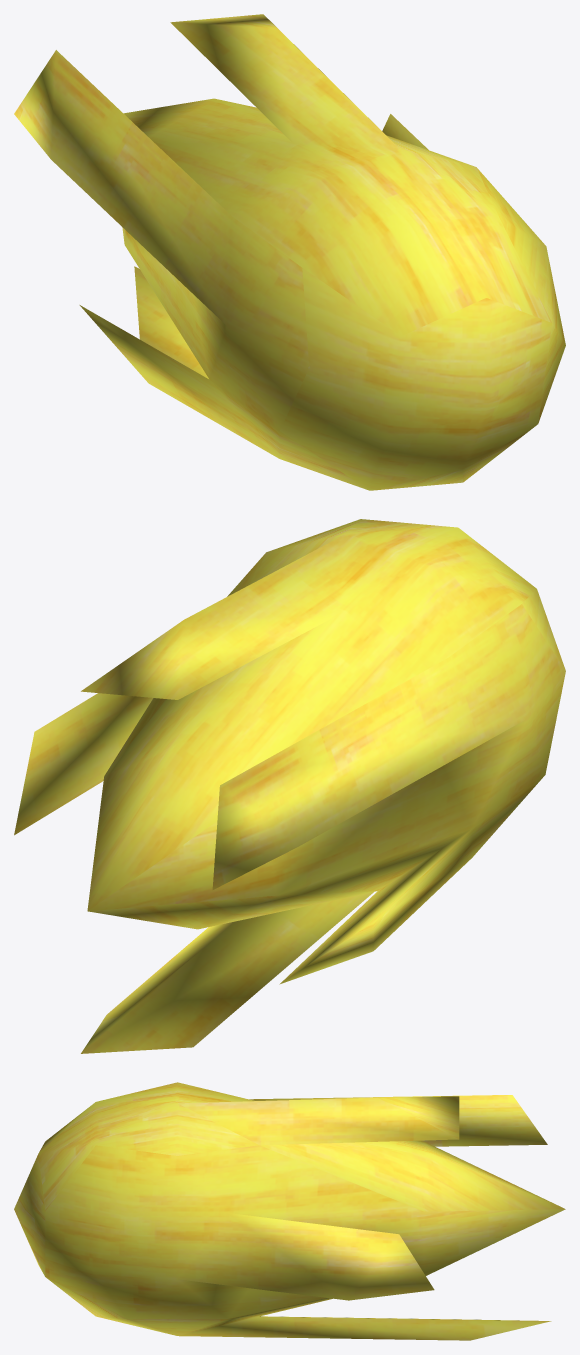
The model's file is fireball.gltf.
3 renders of one model, top to bottom at view 1: azimuth 30°, elevation 25°; view 2: azimuth 150°, elevation 25°; view 3: azimuth 270°, elevation 25°, orthographic. The views are drawn at different scales.
Visible parts, largest first — view 1: Icosphere; view 2: Icosphere; view 3: Icosphere.
Boxes of the visible parts, x1=… form: Icosphere: x1=14, y1=14, x2=565, y2=490; Icosphere: x1=14, y1=519, x2=565, y2=1053; Icosphere: x1=14, y1=1082, x2=565, y2=1340.
Size of the model in its own units: 1.15 by 1.12 by 2.27.
1 material, 1 textured.
